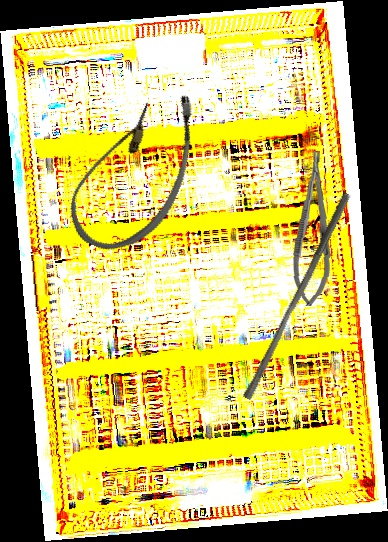Cannula: (57, 70, 215, 268)
Needle Holder: (289, 150, 338, 307)
Pusher: (242, 188, 352, 404)
